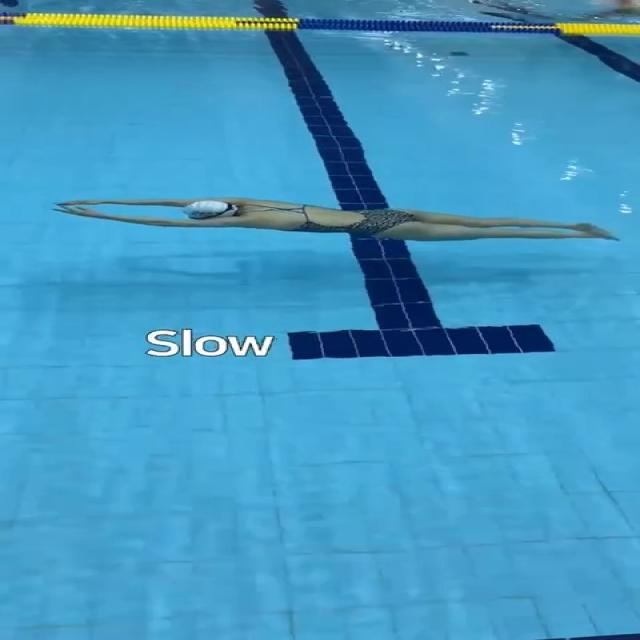Swimming: (27, 188, 635, 256)
